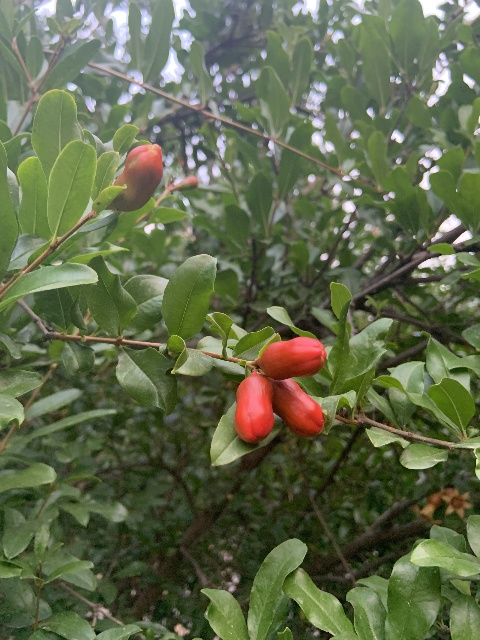bud: (266, 376, 324, 437), (111, 142, 163, 208), (258, 336, 326, 380), (234, 373, 274, 444), (180, 176, 198, 190)
early-fruit: (441, 486, 474, 519), (410, 491, 442, 524)
